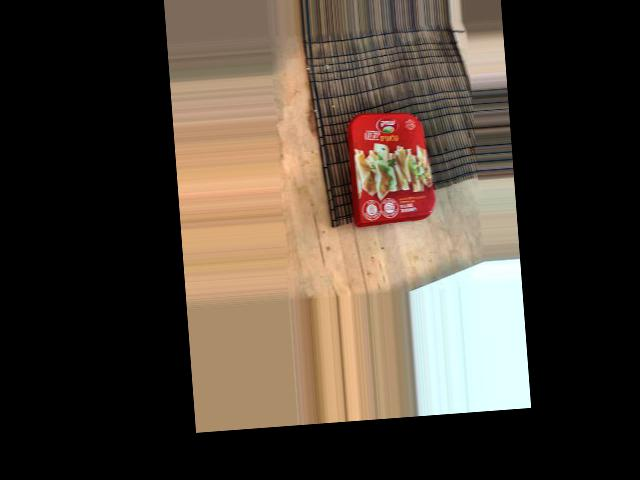cheese: (354, 65, 487, 165)
